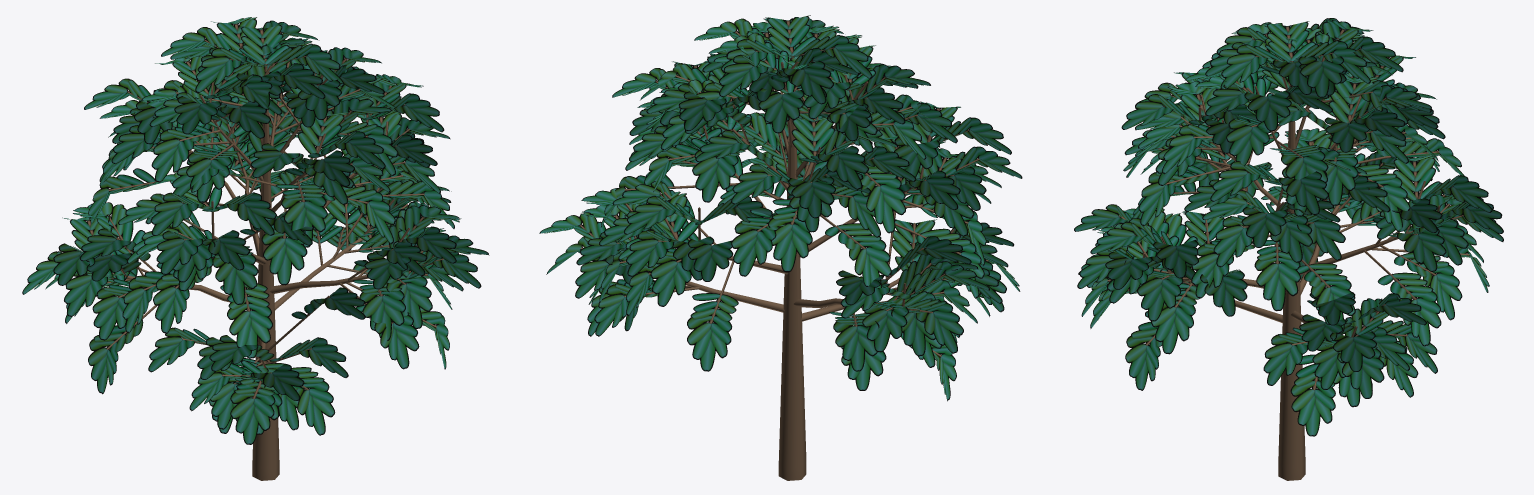
File: floppy.gltf
3 renders of one model, left to right at view 1: azimuth 30°, elevation 25°; view 2: azimuth 150°, elevation 25°; view 3: azimuth 270°, elevation 25°, orthographic.
Visible parts, largest first — view 1: leaves, bark; view 2: leaves, bark; view 3: leaves, bark.
Part boxes in pixels (box(x1,y1,x2,y2)): leaves: box(22, 17, 489, 444); bark: box(106, 45, 443, 480); leaves: box(539, 15, 1022, 401); bark: box(581, 51, 988, 480); leaves: box(1074, 18, 1503, 436); bark: box(1107, 44, 1469, 480).
Bounding box in the file's own units: 3.64 × 3.47 × 3.3.
Materials: 2 (1 with a texture image).
